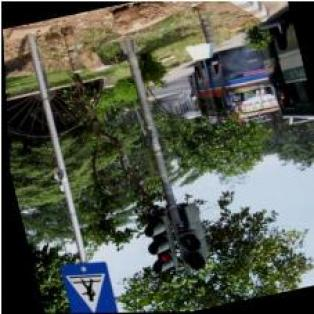Semaforo Rojo: (140, 213, 178, 277)
